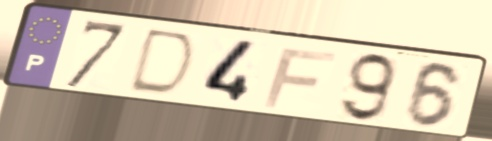4: (198, 37, 259, 109)
6: (400, 61, 469, 130)
7: (61, 18, 131, 91)
9: (338, 51, 400, 125)
D: (123, 26, 200, 100)
F: (259, 46, 341, 111)
